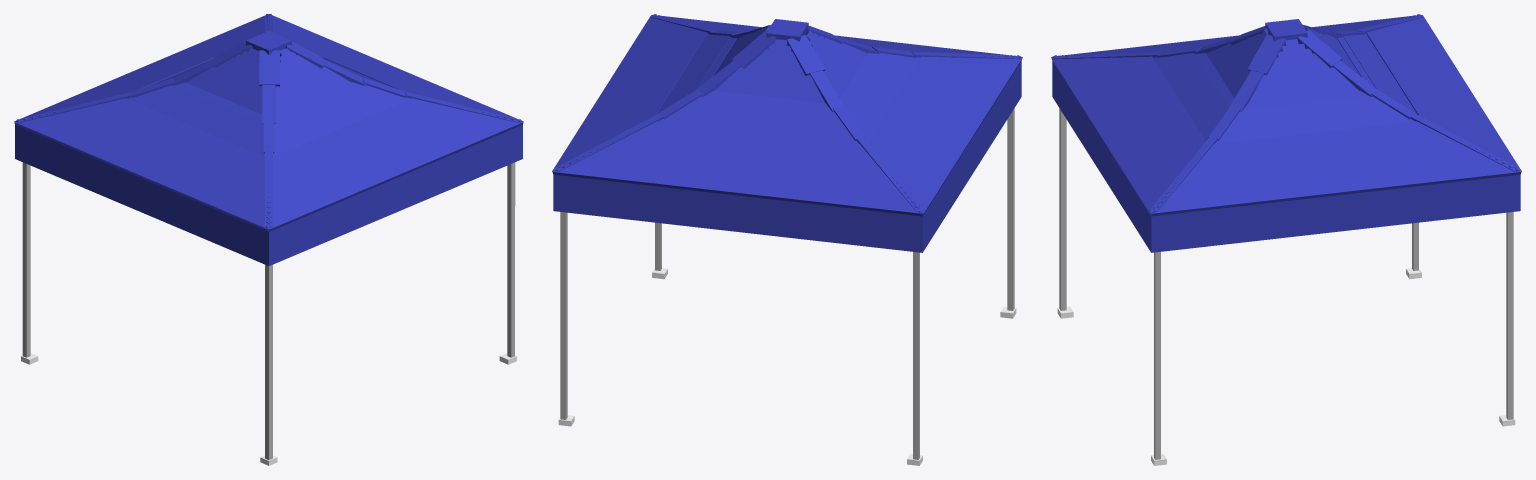
Rendered from tent_blue_y15.obj.
3 renders of one model, left to right at view 1: azimuth 30°, elevation 25°; view 2: azimuth 150°, elevation 25°; view 3: azimuth 270°, elevation 25°, orthographic. The views are drawn at different scales.
Parts seen in each view (by area): view 1: text2, text3, cube1.005, cube1.004, stem1, stem4, stem3, cube2.004, cube2.005, cube3.004, cube3.005, cube4.004 (+43 smaller); view 2: text1, text2, cube1.003, cube2.003, stem2, cube3.003, cube4.003, stem3, cube5, cube6, stem1, cube7 (+61 smaller); view 3: text0, text3, cube1.006, cube2.006, stem2, cube3.006, cube4.006, stem3, cube5.002, cube6.002, stem4, cube7.002 (+61 smaller).
Part boxes in pixels (x1,y1,x2,y2): text2: [15, 125, 272, 265]; text3: [273, 126, 518, 264]; cube1.005: [14, 119, 272, 233]; cube1.004: [266, 119, 523, 233]; stem1: [22, 162, 30, 357]; stem4: [507, 162, 515, 357]; stem3: [265, 264, 272, 459]; cube2.004: [266, 117, 515, 224]; cube2.005: [22, 117, 271, 224]; cube3.004: [266, 116, 508, 219]; cube3.005: [29, 116, 271, 219]; cube4.004: [267, 114, 500, 214]; text1: [559, 175, 916, 252]; text2: [917, 62, 1021, 252]; cube1.003: [553, 168, 923, 216]; cube2.003: [560, 164, 919, 208]; stem2: [560, 212, 567, 419]; cube3.003: [567, 161, 915, 204]; cube4.003: [574, 158, 911, 199]; stem3: [1007, 108, 1014, 310]; cube5: [581, 154, 906, 194]; cube6: [588, 151, 902, 189]; stem1: [913, 252, 919, 459]; cube7: [596, 147, 898, 185]; text0: [1149, 175, 1520, 252]; text3: [1053, 63, 1149, 249]; cube1.006: [1150, 168, 1520, 216]; cube2.006: [1154, 164, 1513, 208]; stem2: [1506, 212, 1513, 419]; cube3.006: [1158, 161, 1506, 204]; cube4.006: [1162, 158, 1499, 199]; stem3: [1059, 108, 1066, 310]; cube5.002: [1167, 154, 1492, 194]; cube6.002: [1171, 151, 1485, 189]; stem4: [1154, 252, 1160, 459]; cube7.002: [1175, 147, 1477, 185].
Bounding box in the file's own units: 4.57 × 3.66 × 4.57.
